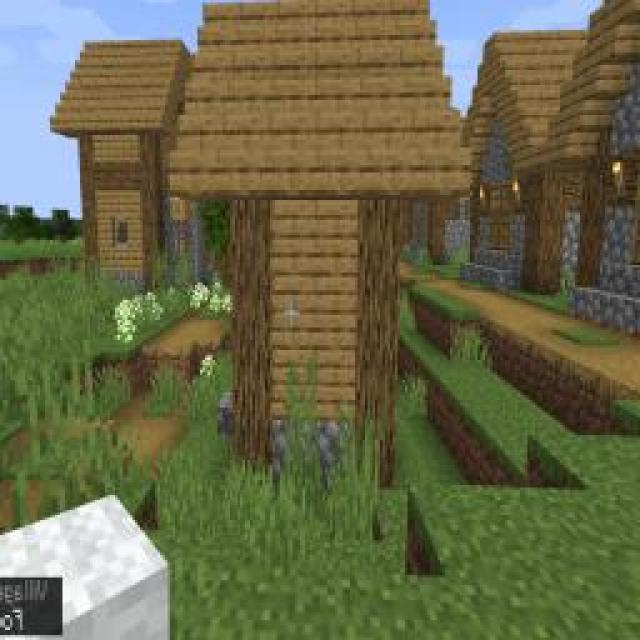Villager: (166, 0, 472, 468), (455, 0, 605, 298), (48, 28, 198, 300)
